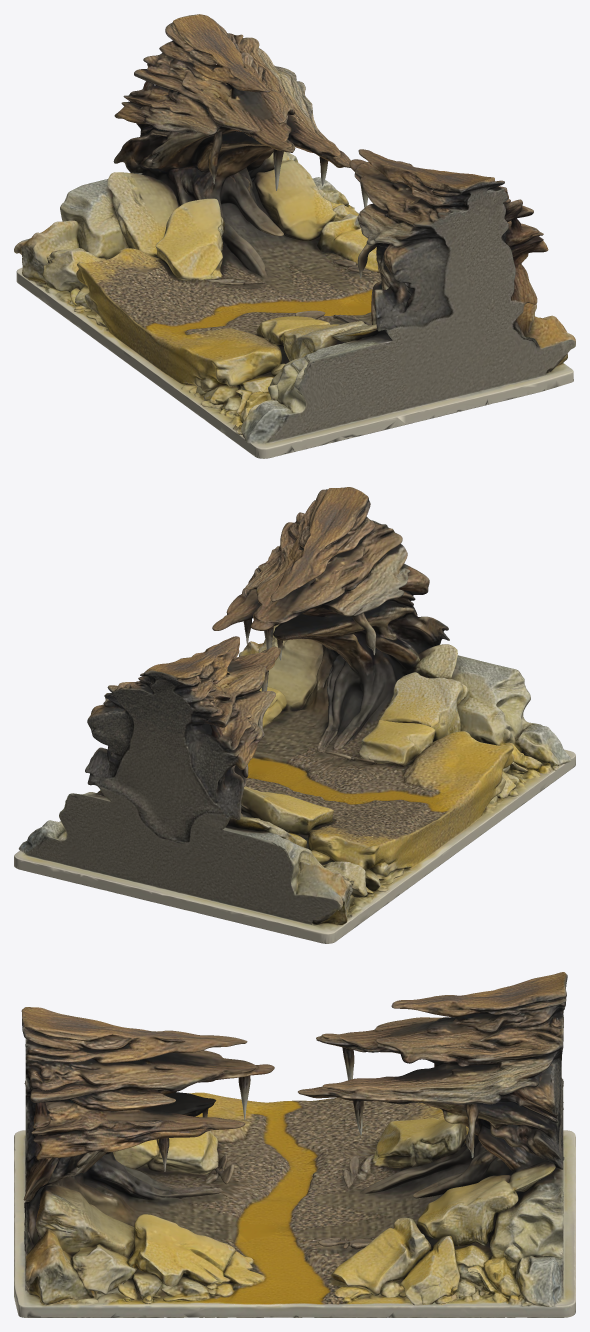
File: HemNui3-v1.glb
3 renders of one model, top to bottom at view 1: azimuth 30°, elevation 25°; view 2: azimuth 150°, elevation 25°; view 3: azimuth 270°, elevation 25°, orthographic. The views are drawn at different scales.
Visible parts, largest first — view 1: tripo_node_3d5cd42a-bac7-49d6-8278-3e859f6e3b8c; view 2: tripo_node_3d5cd42a-bac7-49d6-8278-3e859f6e3b8c; view 3: tripo_node_3d5cd42a-bac7-49d6-8278-3e859f6e3b8c.
Part boxes in pixels (x1=…): tripo_node_3d5cd42a-bac7-49d6-8278-3e859f6e3b8c: x1=14, y1=14, x2=575, y2=458; tripo_node_3d5cd42a-bac7-49d6-8278-3e859f6e3b8c: x1=14, y1=487, x2=575, y2=943; tripo_node_3d5cd42a-bac7-49d6-8278-3e859f6e3b8c: x1=14, y1=972, x2=575, y2=1317.
Bounding box in the file's own units: 0.7517 × 0.4946 × 0.9814.
1 material, 1 textured.
